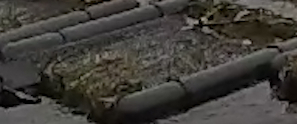bag: (2, 1, 282, 116)
